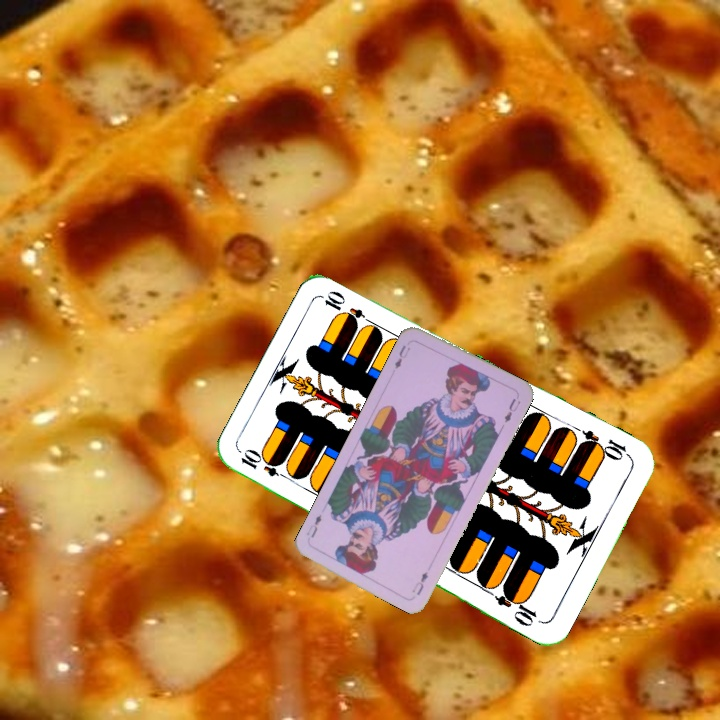E10: (576, 425, 634, 464), (236, 449, 294, 483)
EU: (390, 341, 413, 372), (408, 567, 431, 598)
